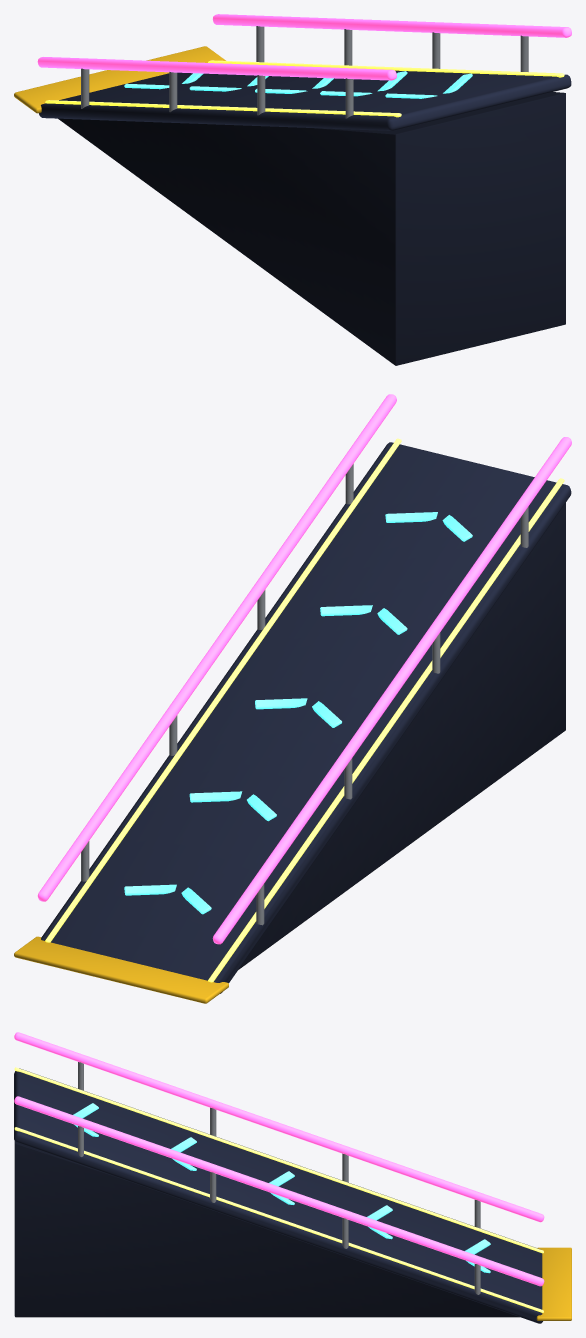
File: bl_ramp.glb
3 views of the same model, one above another, from view 1: azimuth 30°, elevation 25°; view 2: azimuth 150°, elevation 25°; view 3: azimuth 270°, elevation 25° (orthographic). The views are drawn at different scales.
Visible parts, largest first — view 1: ramp; view 2: ramp; view 3: ramp.
Part boxes in pixels (bbox=[...]): ramp: bbox=[14, 14, 571, 365]; ramp: bbox=[14, 394, 571, 1003]; ramp: bbox=[14, 1032, 571, 1323].
Bounding box in the file's own units: 1.9 × 2.84 × 6.33.
